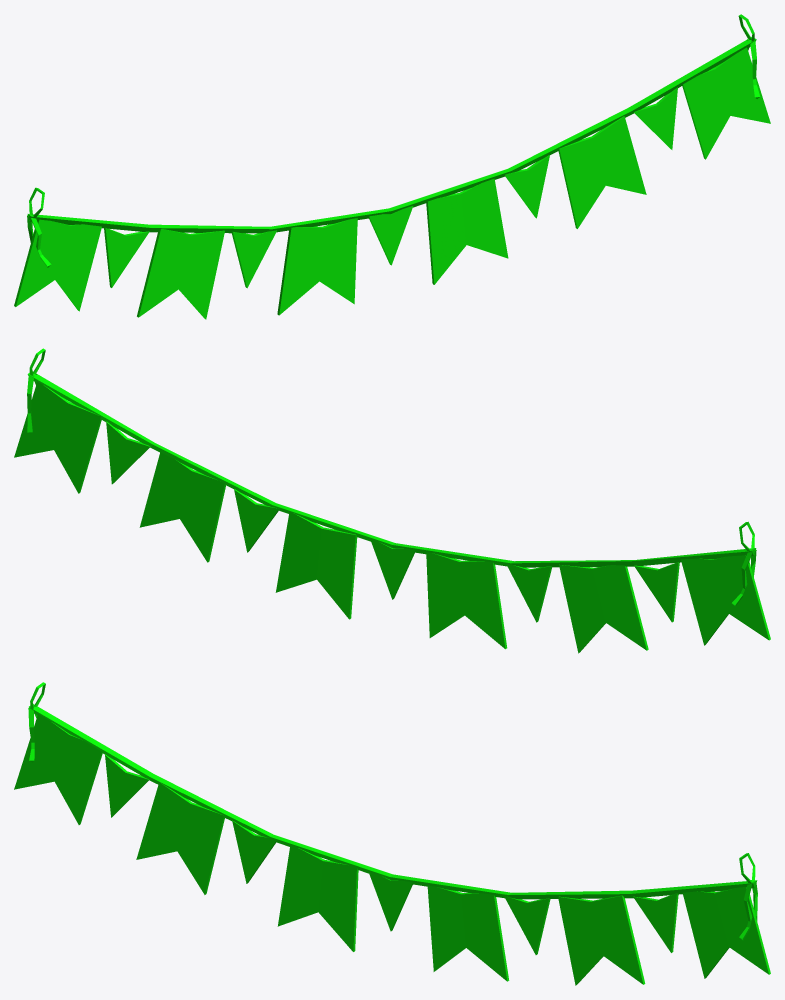
The model's file is SM_Garland_Flags_2m_Fantasy.fbx.
3 views of the same model, one above another, from view 1: azimuth 30°, elevation 25°; view 2: azimuth 150°, elevation 25°; view 3: azimuth 330°, elevation 25° (orthographic).
Parts seen in each view (by area): view 1: garland-flags-2m-fantasy; view 2: garland-flags-2m-fantasy; view 3: garland-flags-2m-fantasy.
Part boxes in pixels (<box>): garland-flags-2m-fantasy: <box>14,14,770,319</box>; garland-flags-2m-fantasy: <box>14,348,770,653</box>; garland-flags-2m-fantasy: <box>14,682,770,985</box>.
Bounding box in the file's own units: 2.09 × 0.5074 × 0.092.
